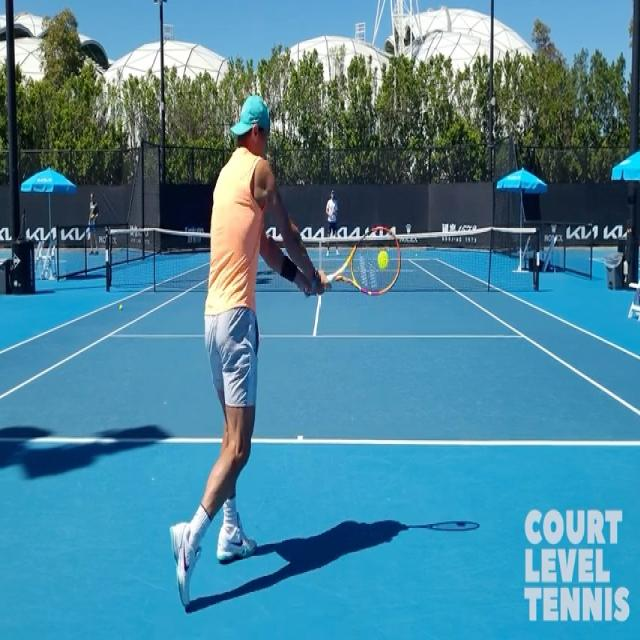backhand-stroke: (168, 93, 402, 611)
